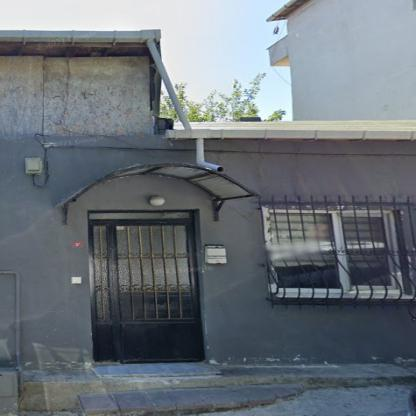door: (90, 222, 198, 360)
window: (275, 214, 395, 289), (88, 212, 188, 219)
